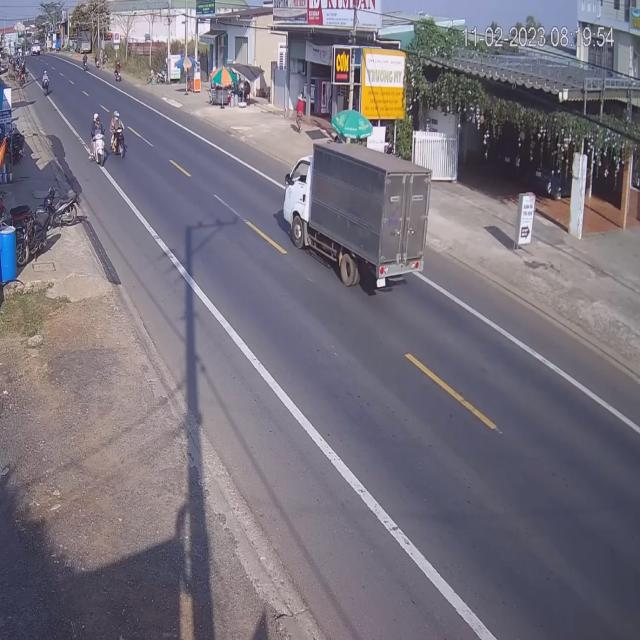motorbike: (88, 112, 104, 166), (110, 110, 126, 162)
truck: (287, 133, 431, 288)
